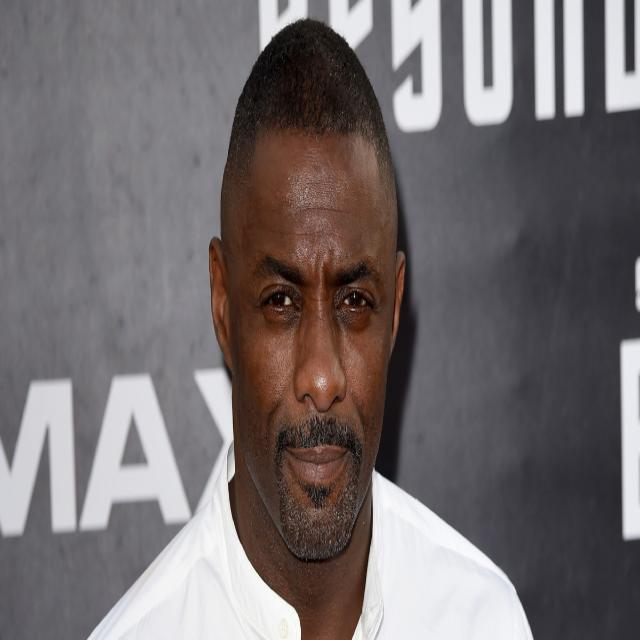human: (88, 11, 537, 640)
